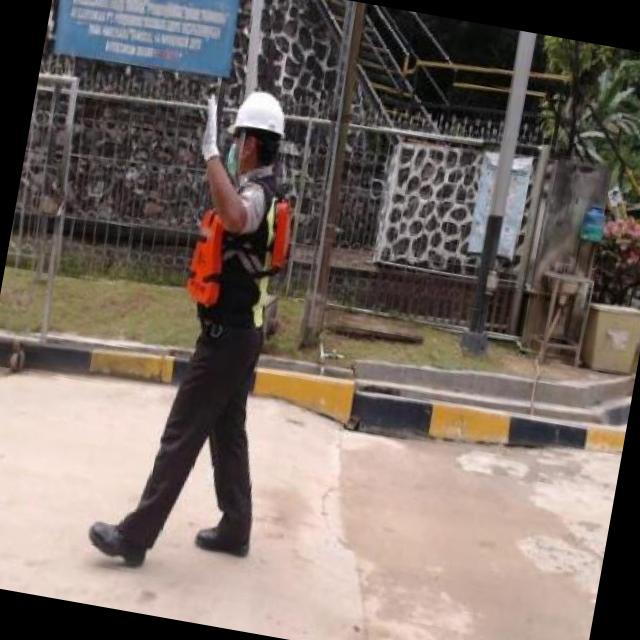boots: (87, 521, 145, 567), (194, 527, 250, 557)
gloves: (199, 94, 220, 161)
hard-hat: (227, 90, 285, 138)
person: (87, 89, 292, 567)
vest: (112, 167, 295, 337)
